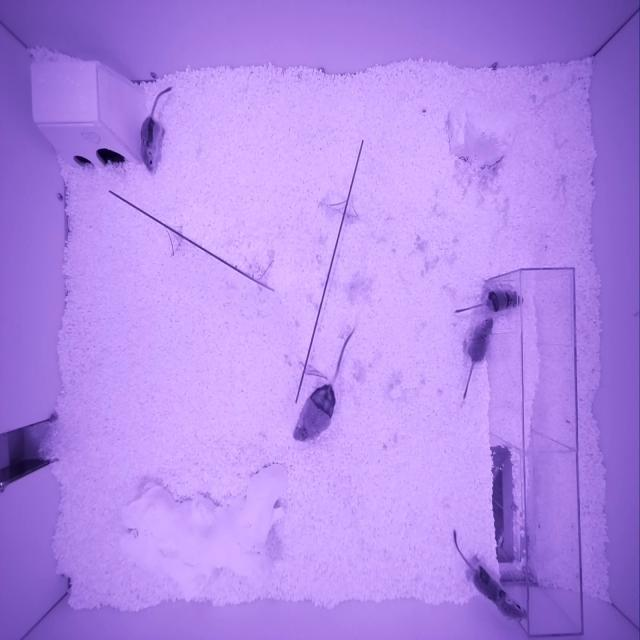adult_back: (292, 383, 336, 442)
pup_fluffy: (467, 317, 494, 362)
pup_h_stripe: (484, 289, 524, 313)
pup_spotted: (468, 560, 529, 623)
pup_v_stripe: (141, 116, 162, 173)
